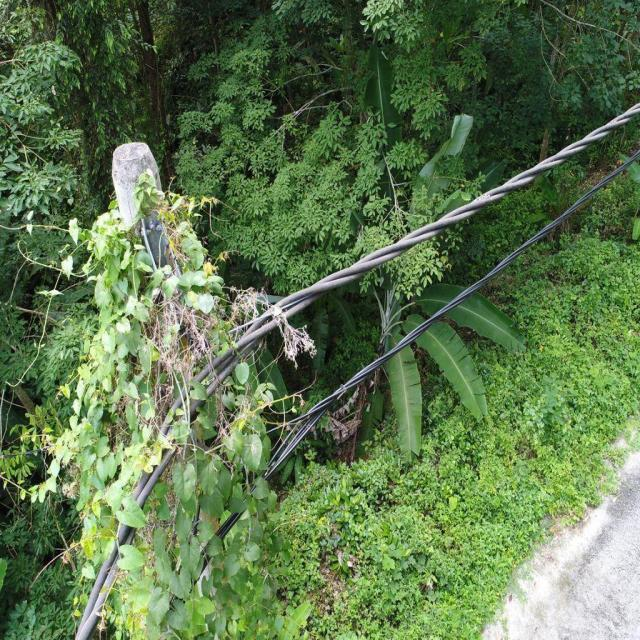critical vegetation: (49, 166, 314, 620)
